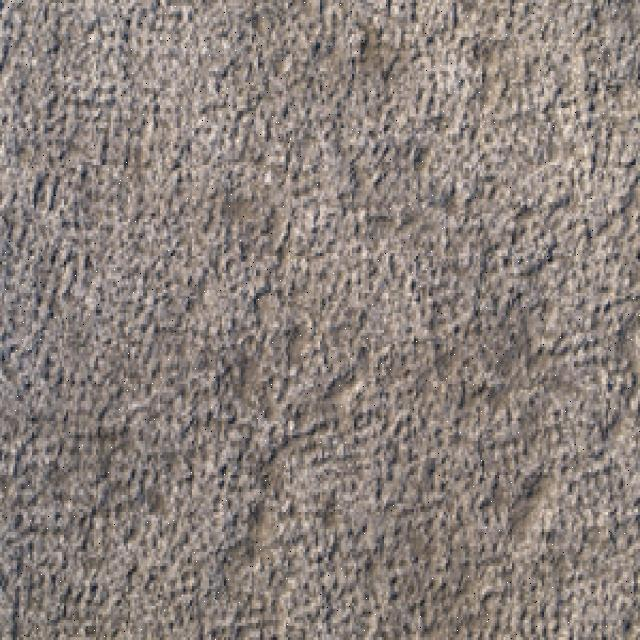Igneous: (2, 3, 636, 631)
